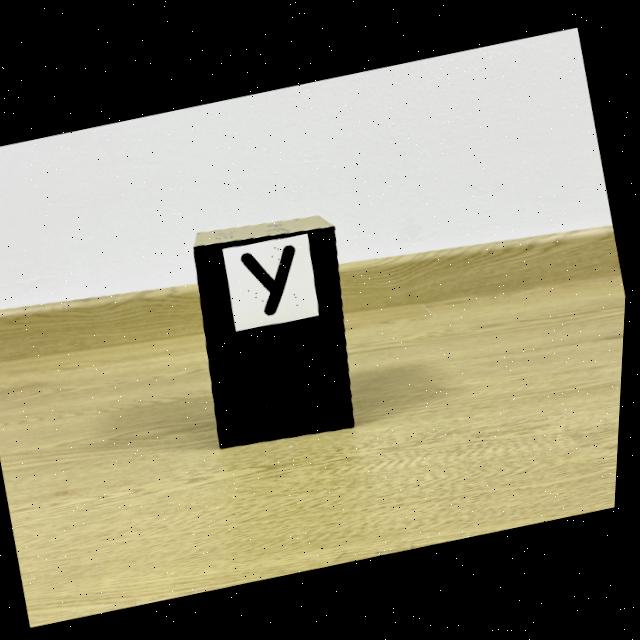Y: (243, 243, 298, 314)
